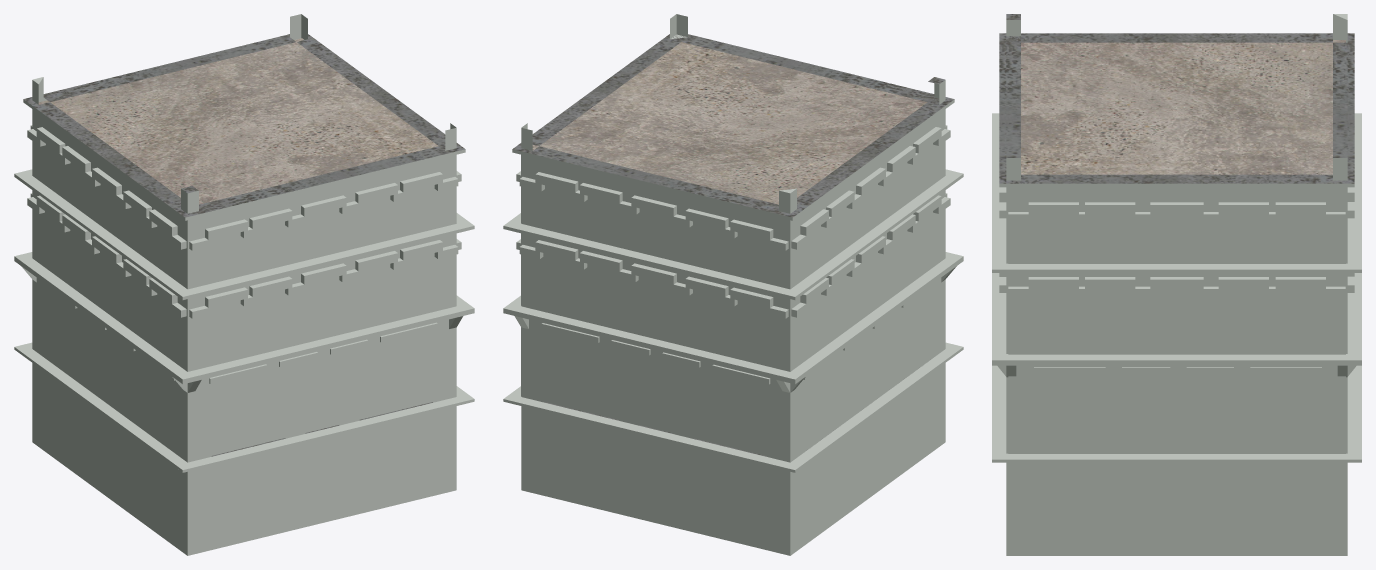
File: BagBuilding2_140.fbx
3 views of the same model, side by side, from view 1: azimuth 30°, elevation 25°; view 2: azimuth 150°, elevation 25°; view 3: azimuth 270°, elevation 25° (orthographic). The views are drawn at different scales.
Parts seen in each view (by area): view 1: mainA140, Box140, roof140, roofB140; view 2: mainA140, Box140, roof140, roofB140; view 3: Box140, mainA140, roof140, roofB140.
Boxes of the visible parts, x1,y1,x2,y2 form: mainA140: (14,14,474,555); Box140: (45,144,434,455); roof140: (38,38,438,204); roofB140: (23,34,465,456); mainA140: (503,14,963,555); Box140: (521,143,932,455); roof140: (532,42,927,204); roofB140: (512,34,954,456); Box140: (1008,187,1345,453); mainA140: (992,14,1361,555); roof140: (1021,40,1345,174); roofB140: (999,14,1354,183).
Size of the model in its own units: 20.77 by 24.66 by 20.77.
